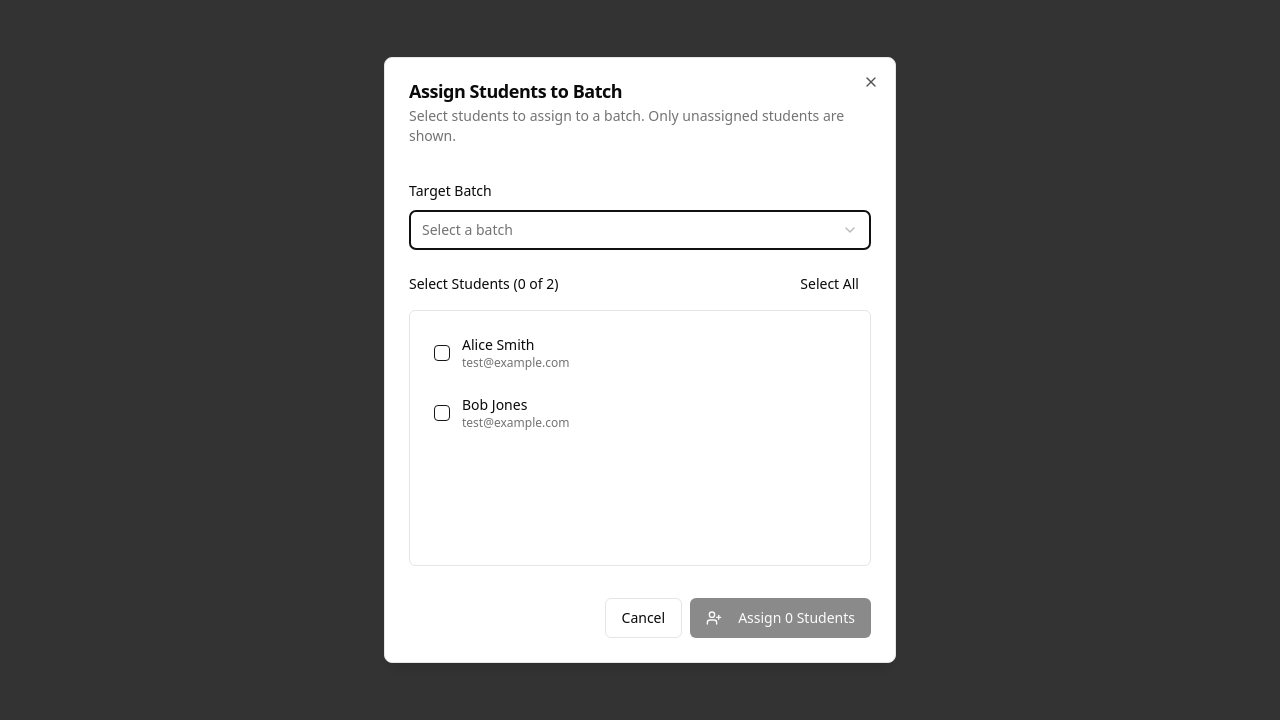
Scenario: AssignStudentsDialog › student selection › allows selecting individual students
What coordinates should you click on to do the following:
click the checkbox named "alice"
I would click on:
 (442, 353)
Its box is x1=434 y1=345 x2=450 y2=361.
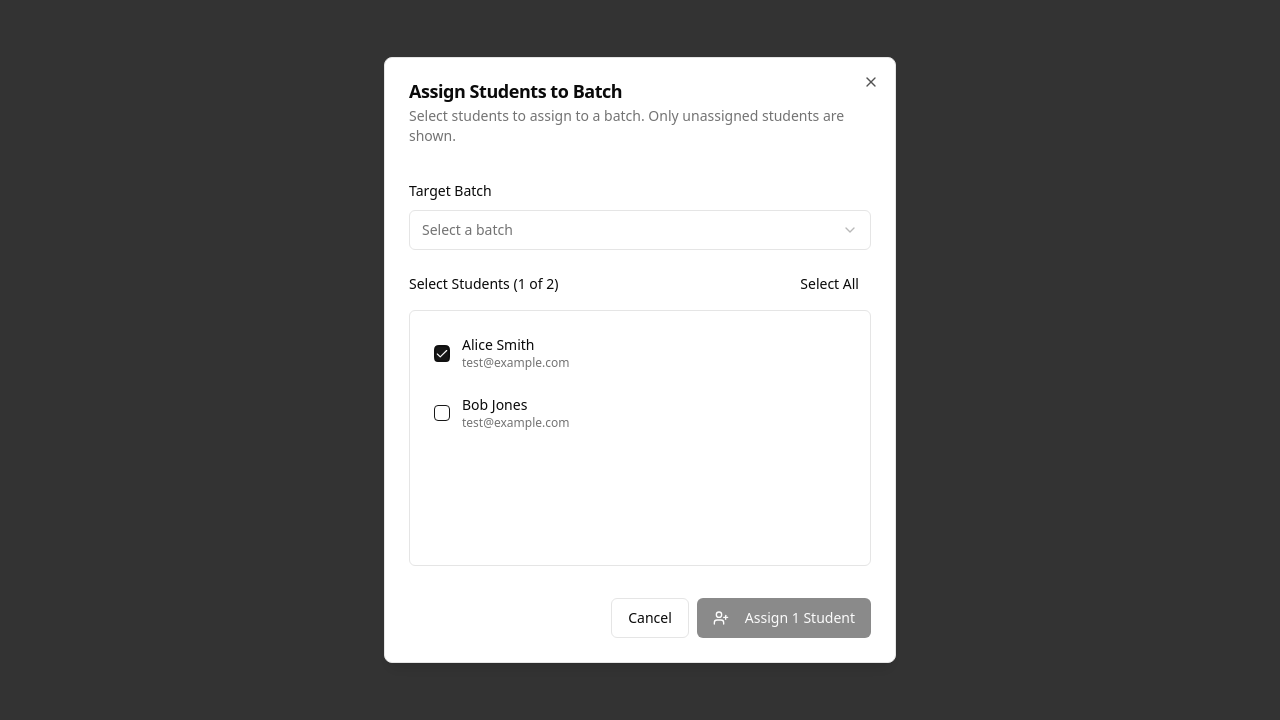
Result: the checkbox named "alice" is checked at x1=434 y1=345 x2=450 y2=361
Result: the text "Select Students (1 of 2)" is shown at x1=409 y1=277 x2=558 y2=291
